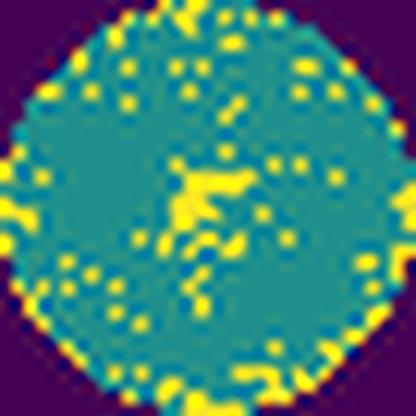Center: (147, 152, 259, 258)
